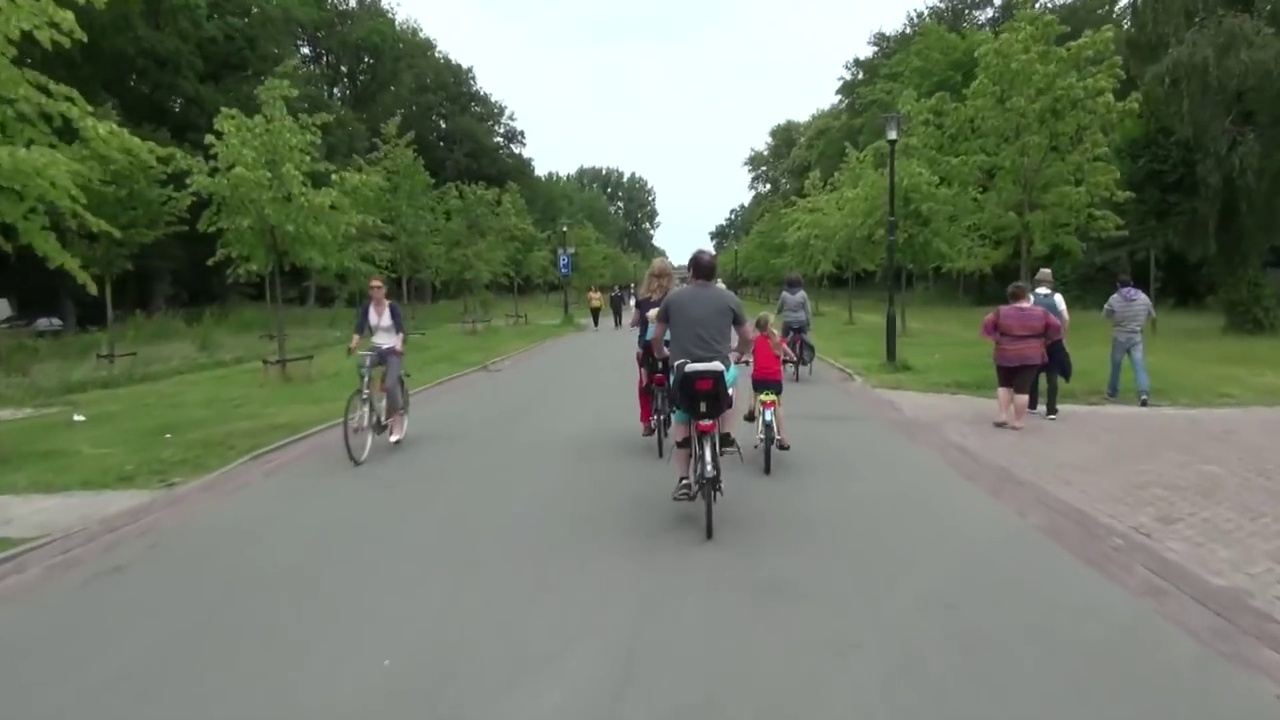cyclist_back: (658, 242, 742, 559), (631, 252, 686, 463), (734, 311, 798, 487), (774, 276, 817, 390)
cyclist_front: (340, 276, 425, 474)
